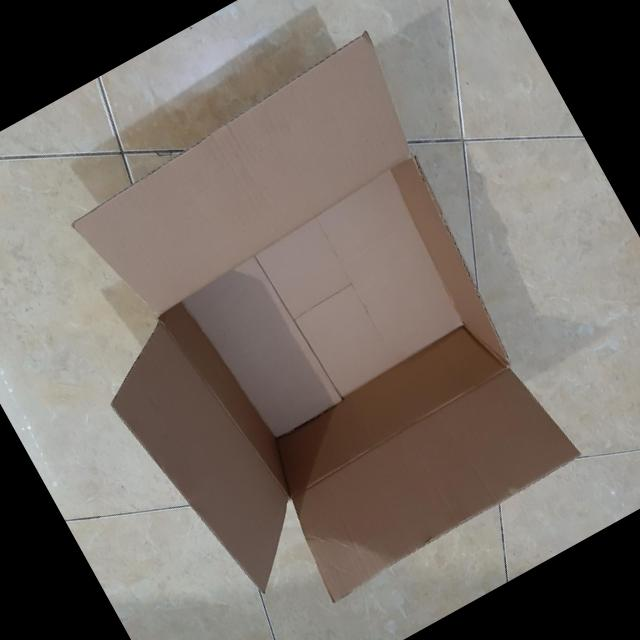Kardus: (12, 30, 604, 640)
